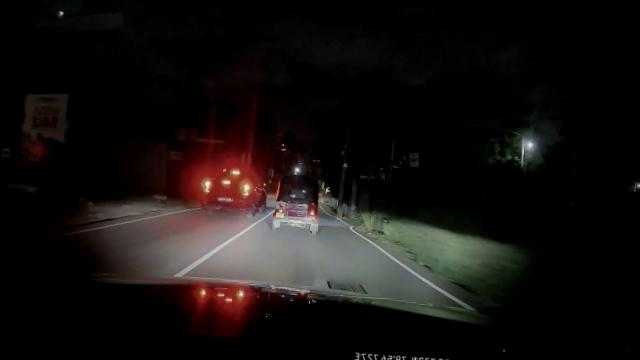illegal overtaking: (190, 158, 268, 222)
